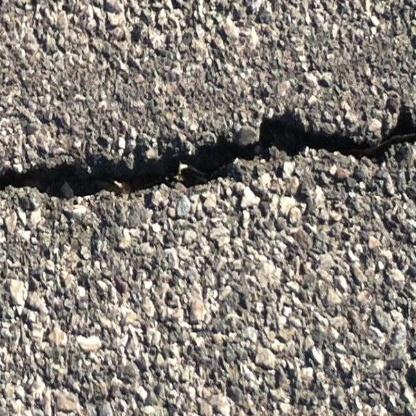Cracks: (0, 100, 416, 205)
